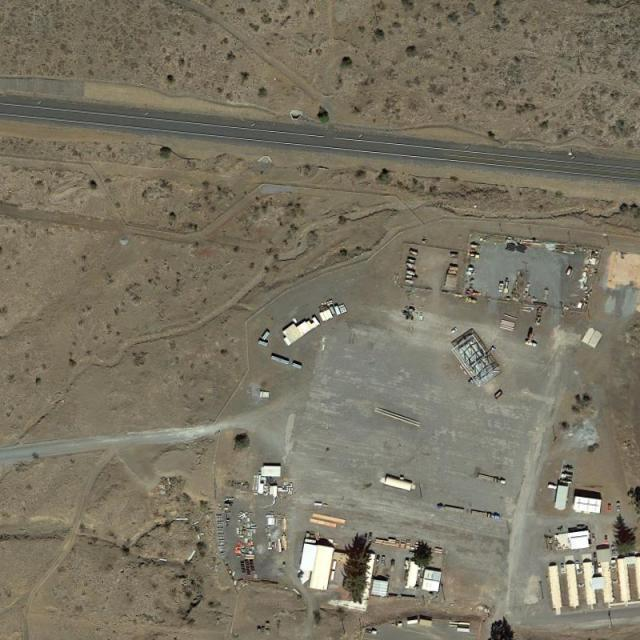vehicle: (389, 559, 398, 574), (403, 557, 413, 570), (566, 266, 574, 278), (498, 282, 506, 294), (450, 326, 459, 335), (410, 249, 420, 257), (575, 560, 582, 571), (560, 563, 566, 575), (407, 270, 418, 276), (593, 552, 598, 563), (617, 502, 622, 512), (612, 546, 617, 554), (382, 557, 386, 566), (608, 505, 613, 512), (605, 534, 609, 542)
